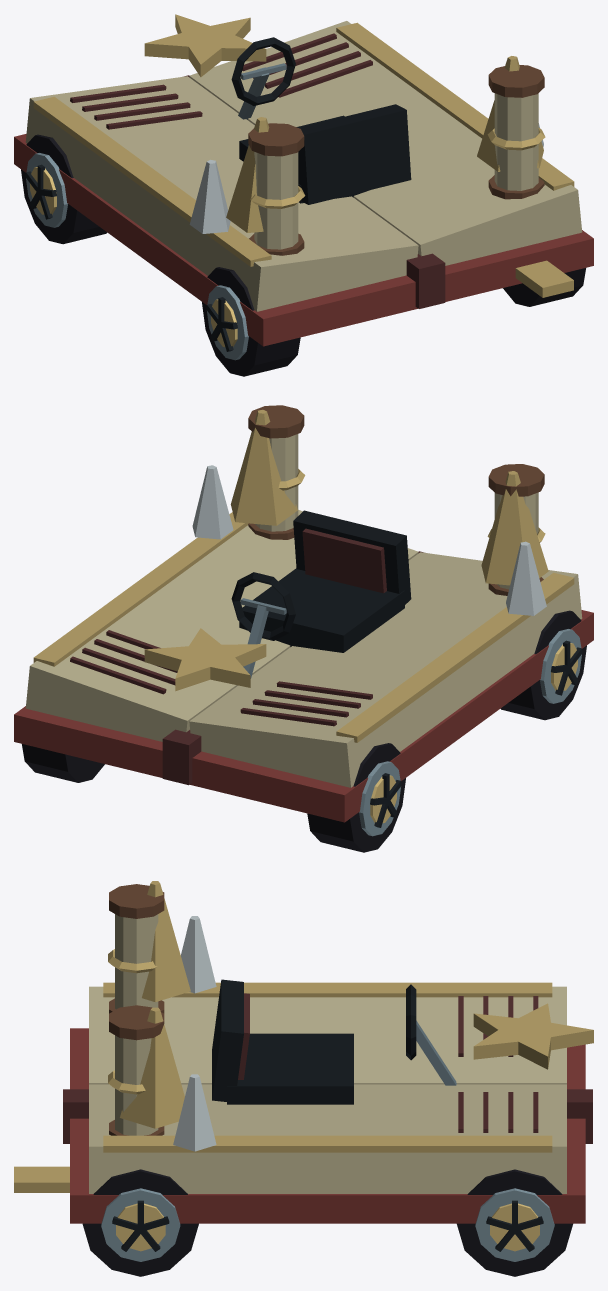
Rendered from kart.glb.
3 views of the same model, one above another, from view 1: azimuth 30°, elevation 25°; view 2: azimuth 150°, elevation 25°; view 3: azimuth 270°, elevation 25° (orthographic). The views are drawn at different scales.
Parts seen in each view (by area): view 1: identity-book-book-open-pages-and-spine, identity-book-motif-scrolls, identity-book-driver-cockpit, wheel-rear-left, identity-book-motif-crystals, wheel-front-left, identity-book-motif-star, wheel-rear-right; view 2: identity-book-book-open-pages-and-spine, identity-book-driver-cockpit, identity-book-motif-crystals, identity-book-motif-scrolls, wheel-front-left, wheel-rear-left, identity-book-motif-star, wheel-front-right; view 3: identity-book-book-open-pages-and-spine, identity-book-driver-cockpit, identity-book-motif-crystals, identity-book-motif-scrolls, wheel-front-right, wheel-rear-right, identity-book-motif-star.
Boxes of the visible parts, x1=… form: identity-book-book-open-pages-and-spine: x1=14, y1=21, x2=593, y2=346; identity-book-motif-scrolls: x1=248, y1=65, x2=545, y2=255; identity-book-driver-cockpit: x1=231, y1=37, x2=411, y2=204; wheel-rear-left: x1=202, y1=267, x2=300, y2=376; identity-book-motif-crystals: x1=189, y1=56, x2=543, y2=233; wheel-front-left: x1=21, y1=134, x2=107, y2=244; identity-book-motif-star: x1=144, y1=14, x2=266, y2=77; wheel-rear-right: x1=503, y1=268, x2=585, y2=306; identity-book-book-open-pages-and-spine: x1=14, y1=510, x2=593, y2=822; identity-book-driver-cockpit: x1=231, y1=510, x2=411, y2=678; identity-book-motif-crystals: x1=192, y1=409, x2=548, y2=615; identity-book-motif-scrolls: x1=248, y1=405, x2=545, y2=595; wheel-front-left: x1=307, y1=743, x2=405, y2=852; wheel-rear-left: x1=500, y1=610, x2=586, y2=720; identity-book-motif-star: x1=144, y1=628, x2=266, y2=691; wheel-front-right: x1=22, y1=744, x2=104, y2=782; identity-book-book-open-pages-and-spine: x1=14, y1=982, x2=592, y2=1223; identity-book-driver-cockpit: x1=212, y1=979, x2=456, y2=1104; identity-book-motif-crystals: x1=120, y1=881, x2=216, y2=1151; identity-book-motif-scrolls: x1=108, y1=884, x2=164, y2=1135; wheel-front-right: x1=457, y1=1169, x2=572, y2=1276; wheel-rear-right: x1=82, y1=1169, x2=198, y2=1276; identity-book-motif-star: x1=473, y1=1003, x2=593, y2=1069.
Bounding box in the file's own units: 2.01 × 1.32 × 2.79.
